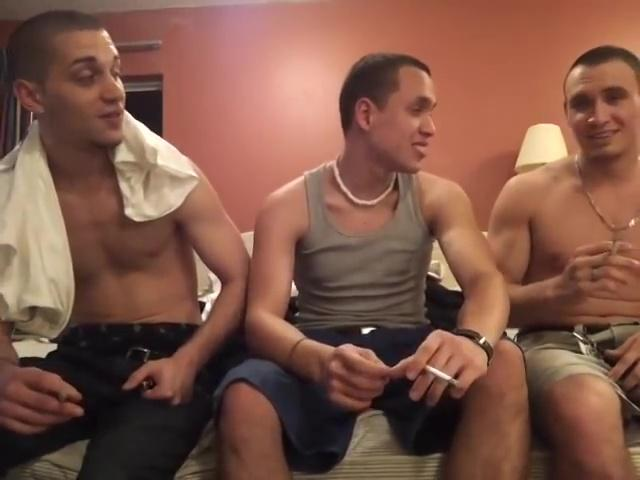cigarette: (423, 363, 466, 390), (606, 238, 620, 258)
